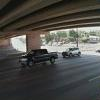Bridge: (1, 2, 96, 41)
